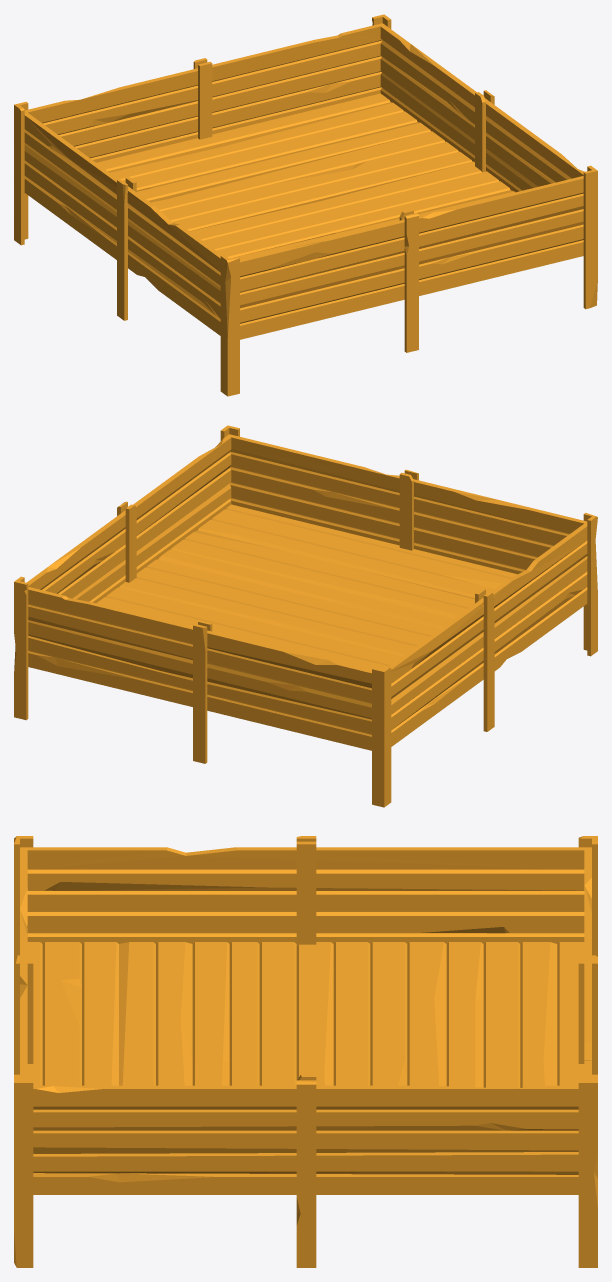
Rendered from SM_Planter_Box_3x3m_A_Farm.fbx.
The picture shows the model from 3 angles, top to bottom: view 1: azimuth 30°, elevation 25°; view 2: azimuth 150°, elevation 25°; view 3: azimuth 270°, elevation 25°; orthographic projection. The views are drawn at different scales.
Visible parts, largest first — view 1: planter-box-3x3m-a-farm; view 2: planter-box-3x3m-a-farm; view 3: planter-box-3x3m-a-farm.
Boxes of the visible parts, left/top/right/bottom form: planter-box-3x3m-a-farm: left=14, top=14, right=597, bottom=396; planter-box-3x3m-a-farm: left=14, top=425, right=597, bottom=807; planter-box-3x3m-a-farm: left=14, top=836, right=597, bottom=1267.
Size of the model in its own units: 3 by 1.05 by 3.
